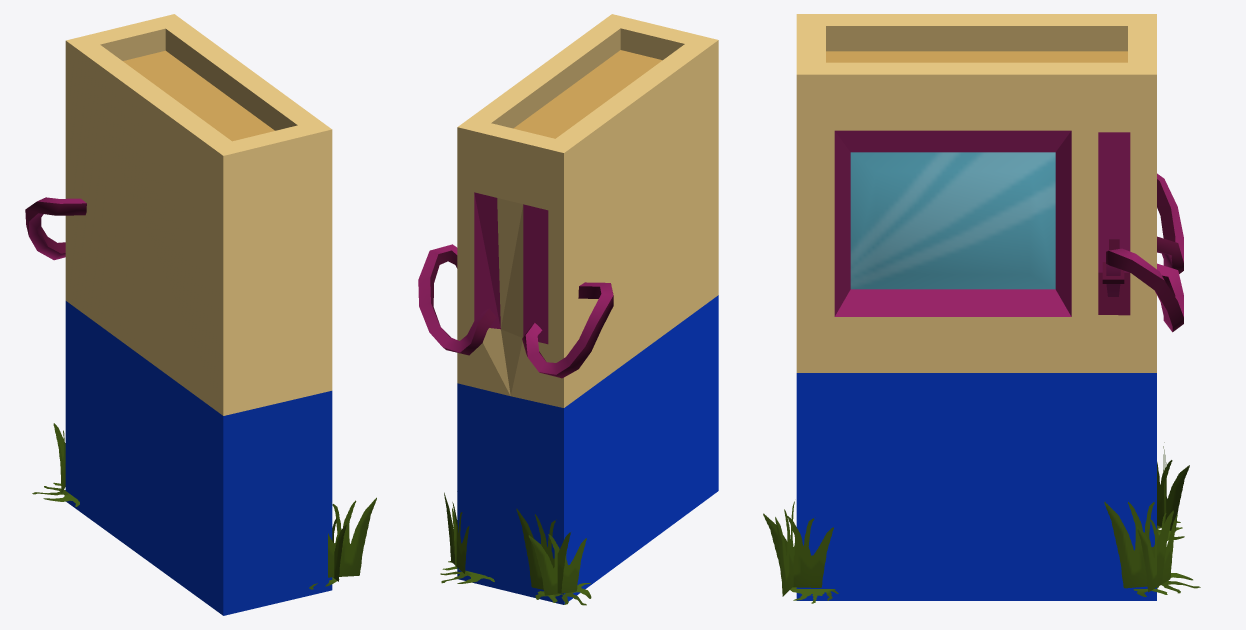
File: FuelDispencer.fbx
3 views of the same model, side by side, from view 1: azimuth 30°, elevation 25°; view 2: azimuth 150°, elevation 25°; view 3: azimuth 270°, elevation 25° (orthographic). The views are drawn at different scales.
Parts seen in each view (by area): view 1: Gas_station.001; view 2: Gas_station.001; view 3: Gas_station.001.
Boxes of the visible parts, box(x1,y1,x2,y2) form: Gas_station.001: box(25, 14, 376, 615); Gas_station.001: box(418, 14, 718, 605); Gas_station.001: box(763, 14, 1200, 603).
Size of the model in its own units: 94.75 by 200 by 167.
